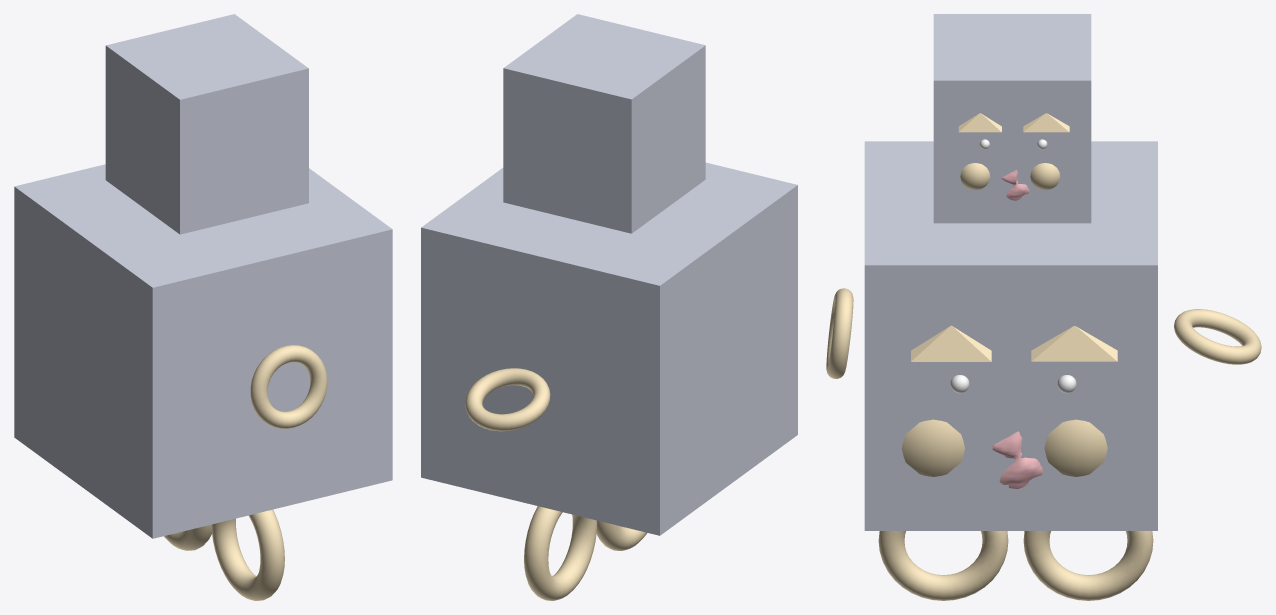
File: avatar2.glb
3 renders of one model, left to right at view 1: azimuth 30°, elevation 25°; view 2: azimuth 150°, elevation 25°; view 3: azimuth 270°, elevation 25°, orthographic. The views are drawn at different scales.
Parts seen in each view (by area): view 1: Cube_2, head, leftleg, Torus_2, rightelg; view 2: Cube_2, head, rightelg, Torus_3, leftleg; view 3: Cube_2, head, rightelg, leftleg, Torus_3, Sphere_1, Sphere, Pyramid_1, Pyramid, Torus_2, Landscape.
Part boxes in pixels (bbox=[...]): Cube_2: bbox=[14, 164, 392, 538]; head: bbox=[105, 14, 308, 234]; leftleg: bbox=[211, 509, 284, 600]; Torus_2: bbox=[250, 345, 327, 428]; rightelg: bbox=[164, 524, 211, 550]; Cube_2: bbox=[421, 162, 797, 535]; head: bbox=[503, 14, 705, 233]; rightelg: bbox=[524, 506, 597, 600]; Torus_3: bbox=[465, 368, 550, 431]; leftleg: bbox=[596, 520, 646, 550]; Cube_2: bbox=[864, 141, 1157, 530]; head: bbox=[933, 14, 1091, 223]; rightelg: bbox=[1023, 531, 1153, 600]; leftleg: bbox=[878, 531, 1008, 600]; Torus_3: bbox=[1174, 309, 1261, 364]; Sphere_1: bbox=[1044, 419, 1107, 476]; Sphere: bbox=[901, 419, 964, 476]; Pyramid_1: bbox=[1031, 326, 1117, 361]; Pyramid: bbox=[911, 325, 991, 361]; Torus_2: bbox=[826, 288, 853, 378]; Landscape: bbox=[992, 431, 1043, 488].
Size of the model in its own units: 3.9 by 7.68 by 5.53.
